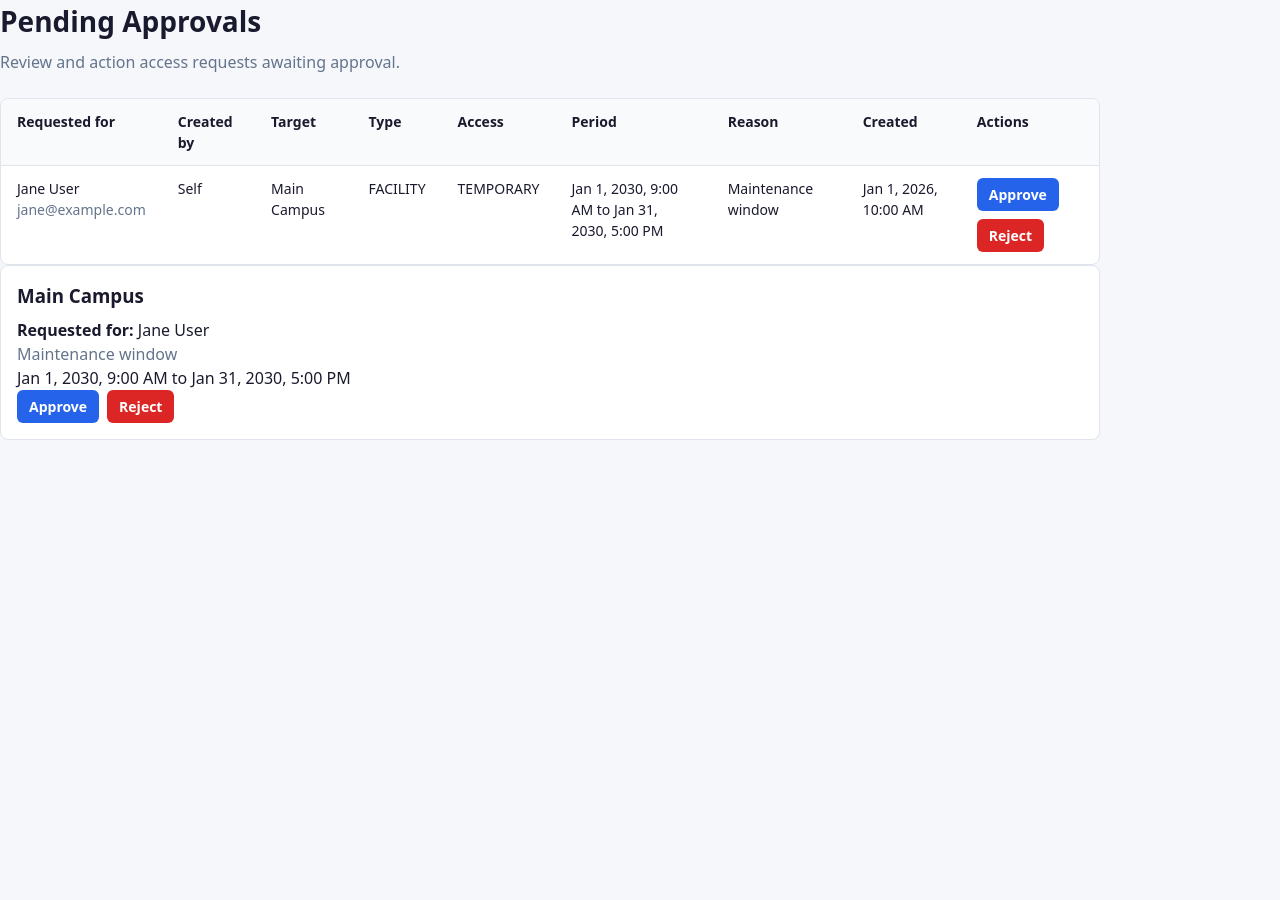
Manager workflow › approval confirmation is shown before approving
Click the button "Approve" in the row of "jane@example.com". click: (1018, 194)
box: [977, 178, 1059, 211]
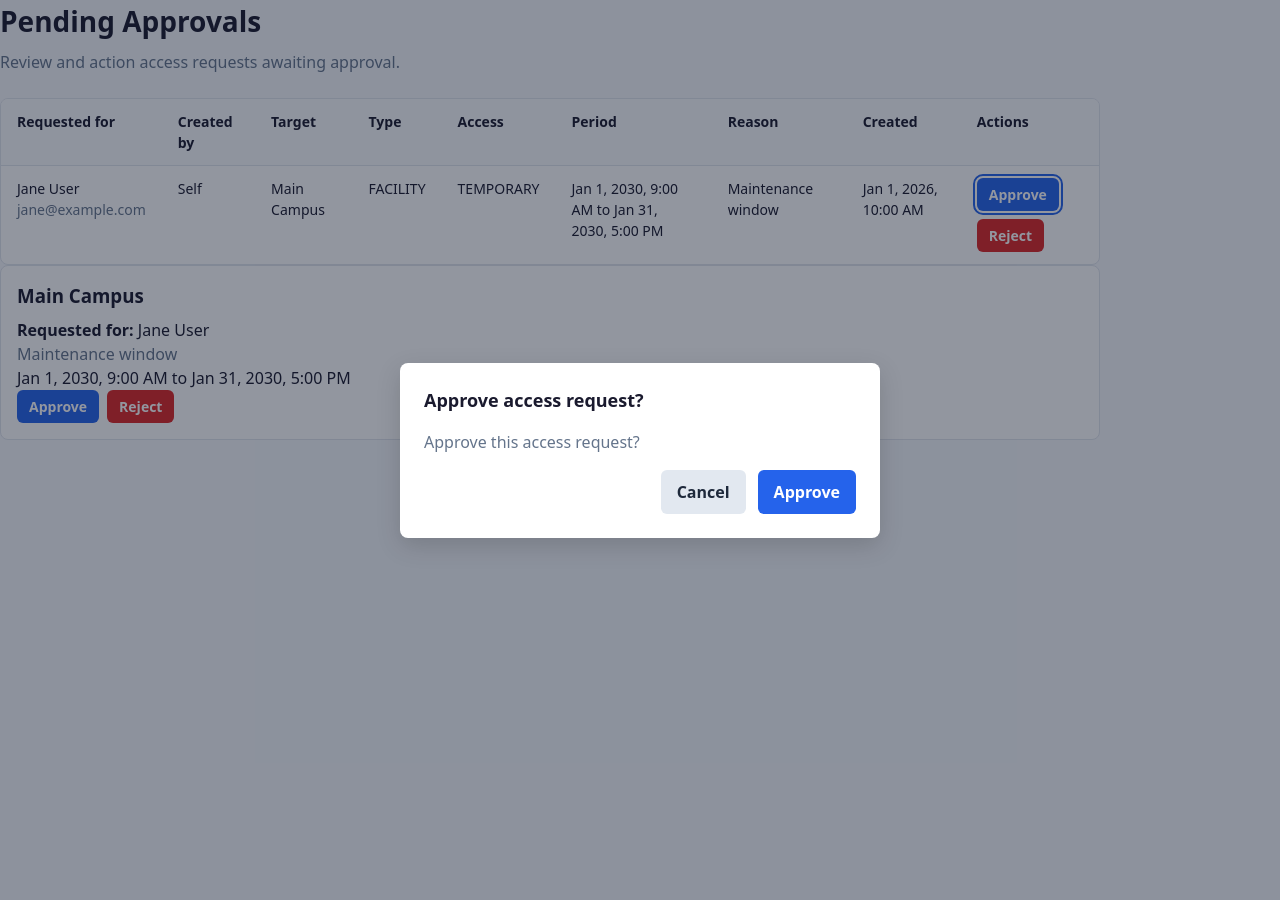
Now the dialog is shown
Now the text "Approve this access request?" is shown, box [424, 430, 640, 452]
